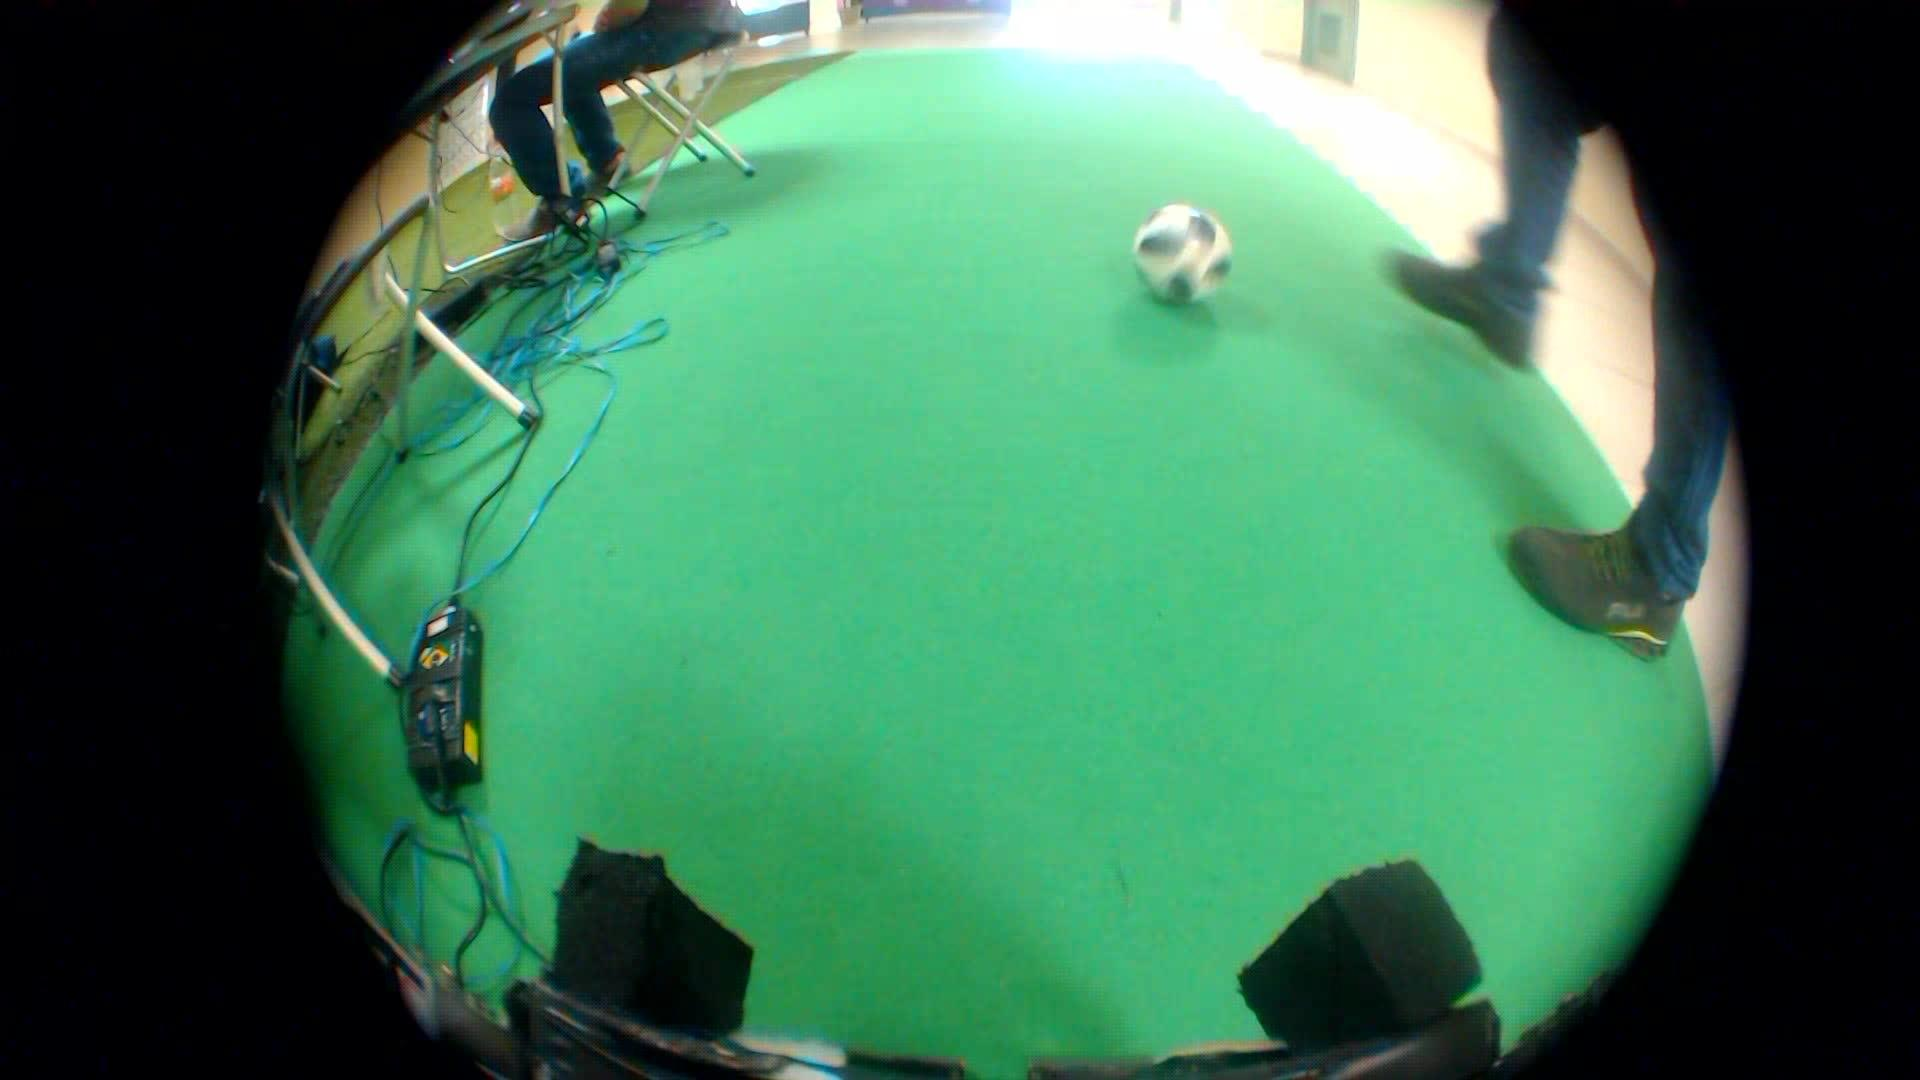ball: (1124, 190, 1247, 311)
